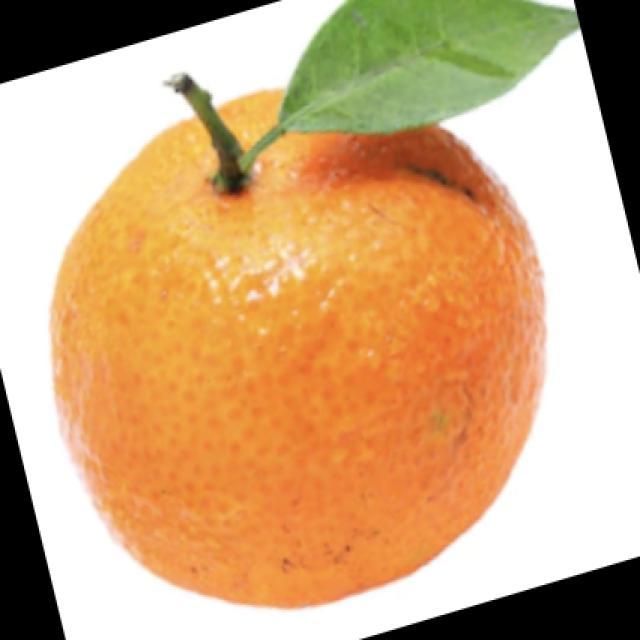matang: (51, 117, 545, 607), (220, 88, 282, 144)
